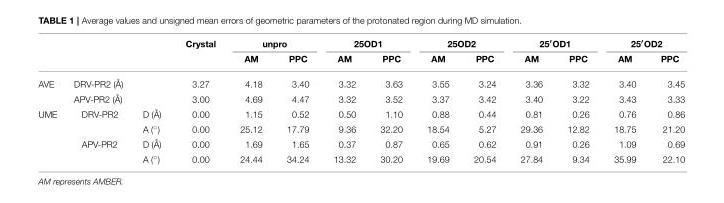table: (37, 37, 684, 163)
table column: (64, 37, 132, 163), (172, 37, 227, 163), (273, 37, 320, 163), (320, 37, 367, 163), (367, 37, 414, 163), (460, 37, 507, 163), (507, 37, 554, 163), (600, 37, 647, 163), (227, 37, 273, 163), (414, 37, 460, 163), (554, 37, 600, 163), (132, 37, 172, 163), (647, 37, 684, 163), (37, 37, 64, 163)
table column header: (37, 37, 684, 70)
table row: (37, 50, 684, 70), (37, 70, 684, 90), (37, 90, 684, 105), (37, 105, 684, 120), (37, 120, 684, 135), (37, 135, 684, 150), (37, 37, 684, 50), (37, 150, 684, 163)
table spanning cell: (172, 37, 227, 70), (37, 105, 64, 163), (320, 37, 414, 50), (227, 37, 320, 50), (414, 37, 507, 50), (507, 37, 600, 50), (600, 37, 684, 50), (37, 70, 64, 105)
